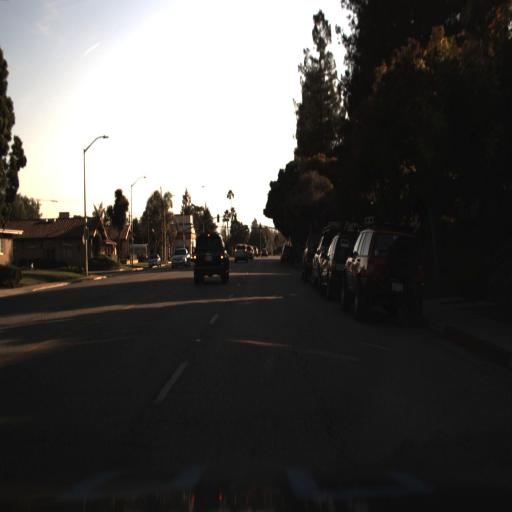car: (343, 226, 429, 318), (318, 231, 358, 300), (320, 231, 351, 301), (192, 231, 228, 284), (170, 245, 192, 270), (232, 239, 250, 266)
